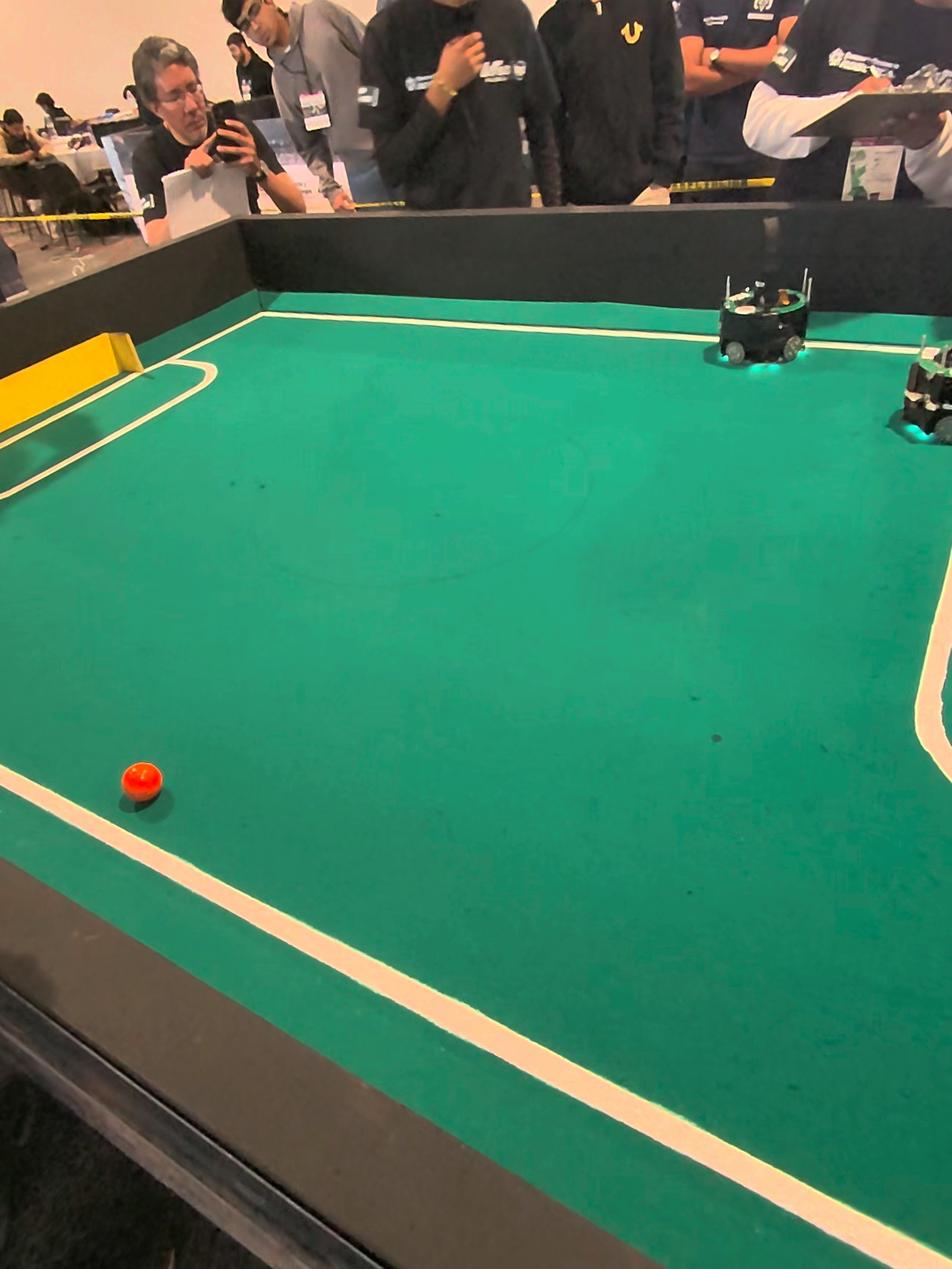Robot: (700, 207, 819, 392), (890, 332, 952, 461)
pelota: (123, 761, 166, 810)
